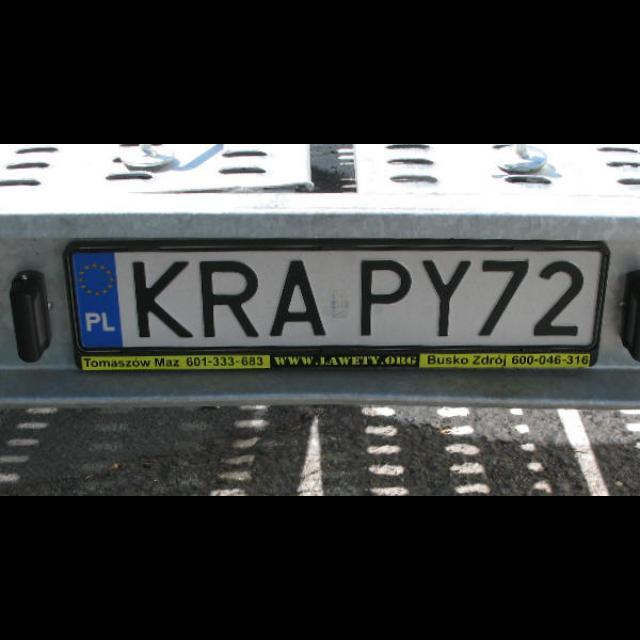license-plates: (66, 243, 610, 365)
